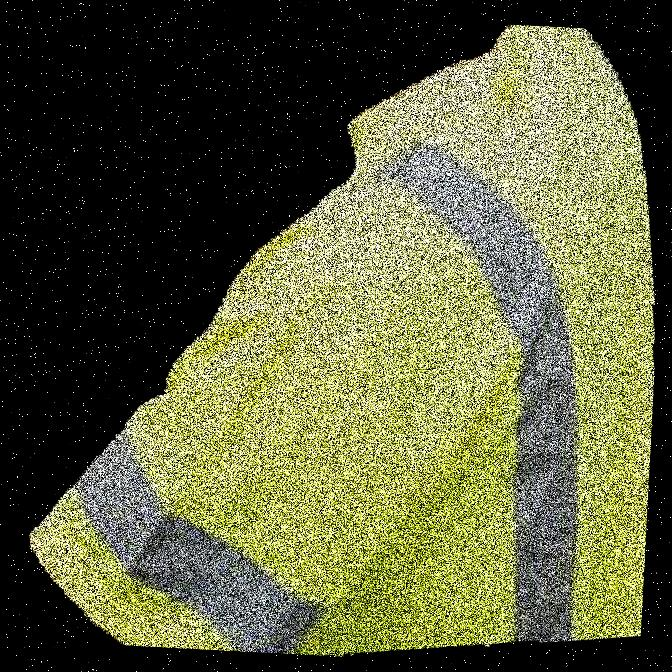Colete: (425, 0, 659, 671)
